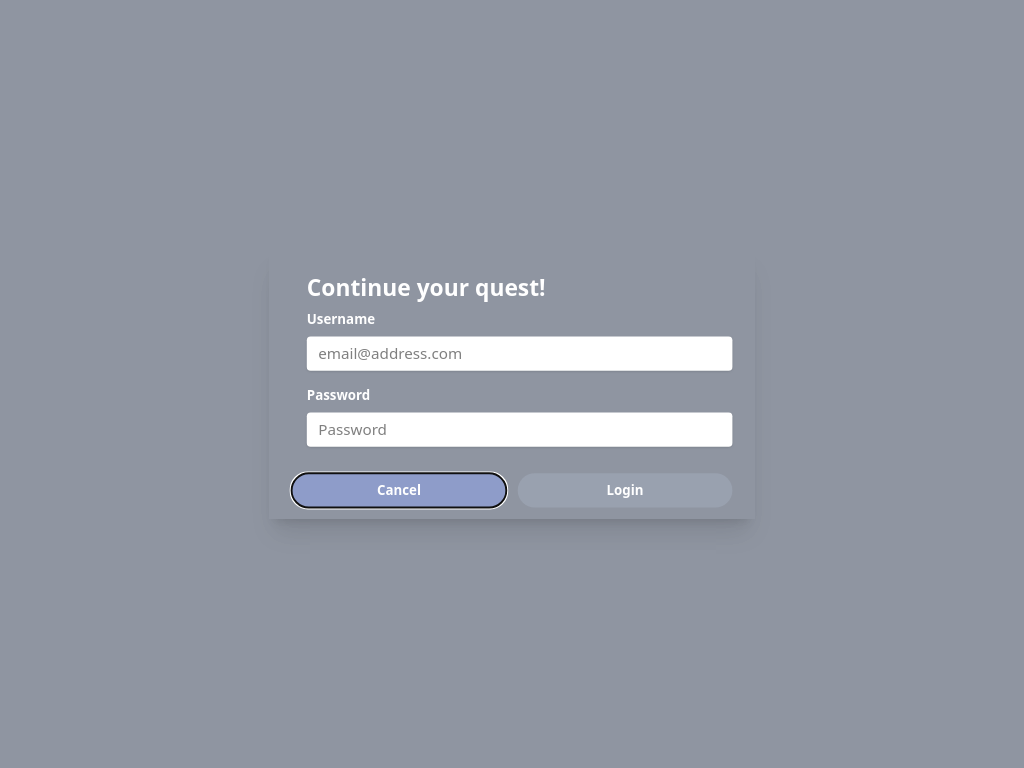
Test: LoginModal › shows validation error for short password
Type "123" into the password field with placeholder "Password" at (520, 430), box top-left (307, 412), bottom-right (732, 447)
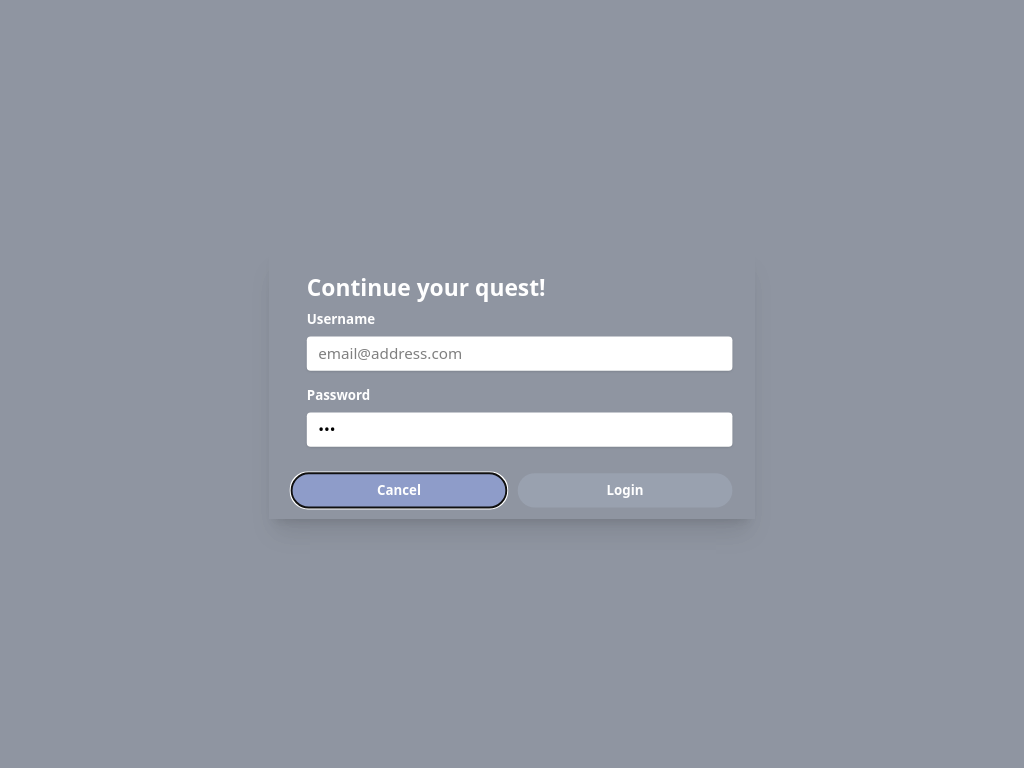
Leave the password field with placeholder "Password", box top-left (307, 412), bottom-right (732, 447)
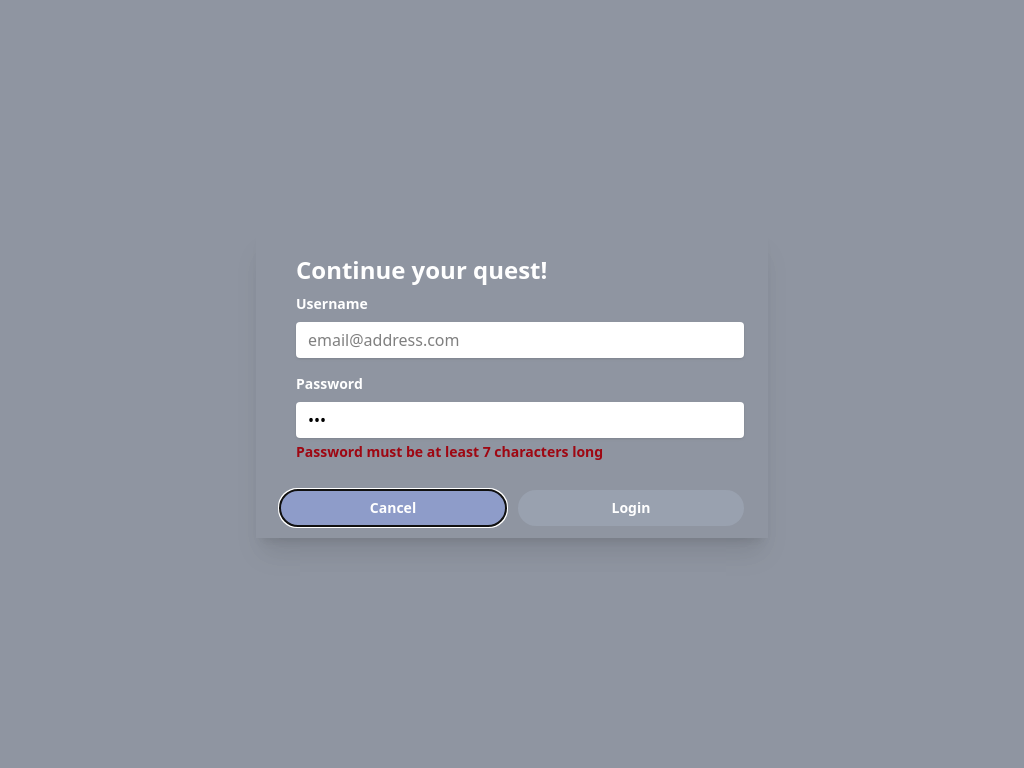
Check: the text "Password must be at least 7 characters long" is shown, box top-left (296, 442), bottom-right (603, 461)
